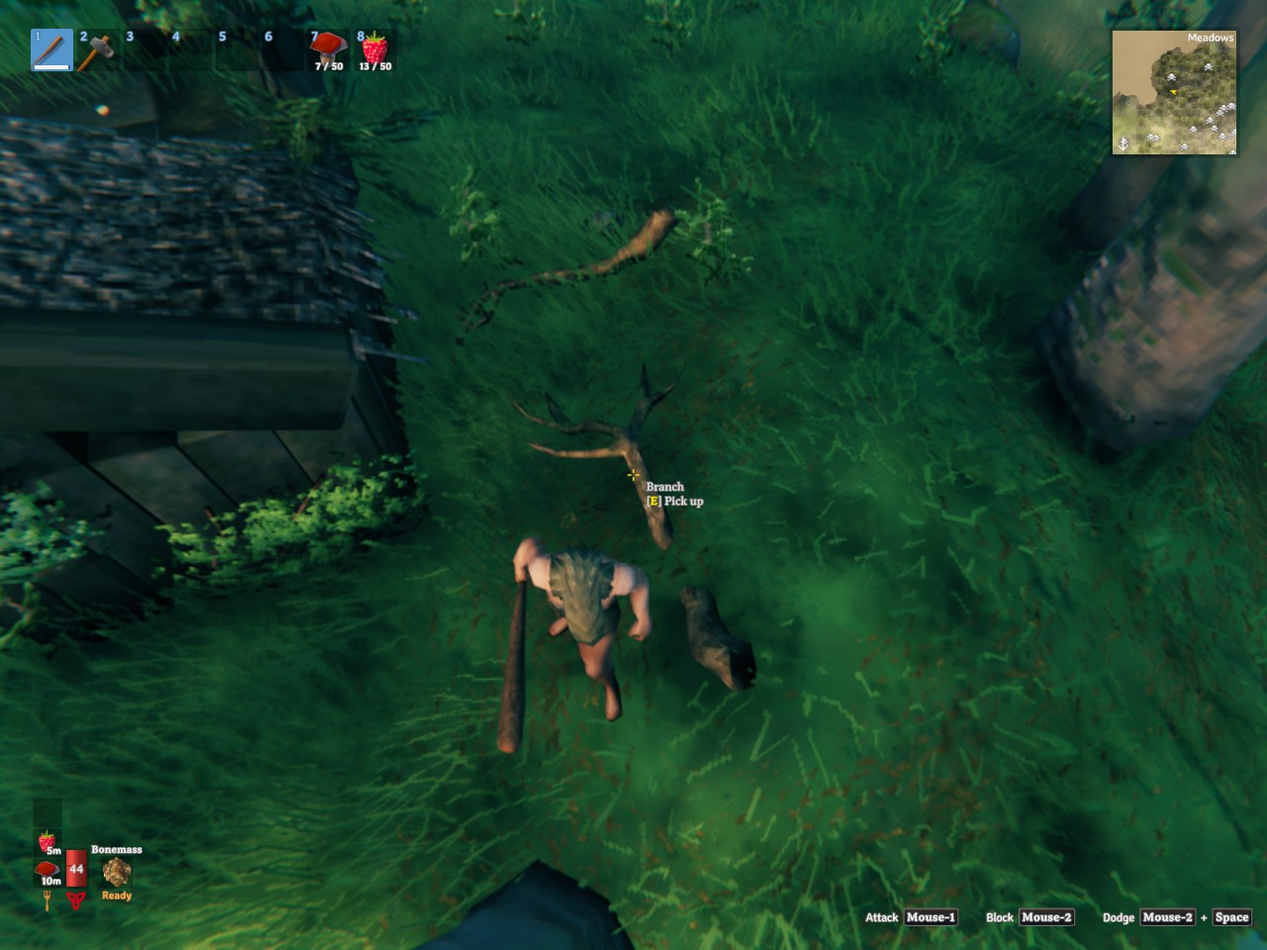Branch: (513, 364, 674, 548), (462, 209, 678, 327), (680, 587, 756, 691)
Food Indicator: (36, 797, 63, 891)
Health Bar: (63, 820, 90, 891)
Hotbar: (24, 21, 406, 80)
House: (0, 14, 422, 662)
